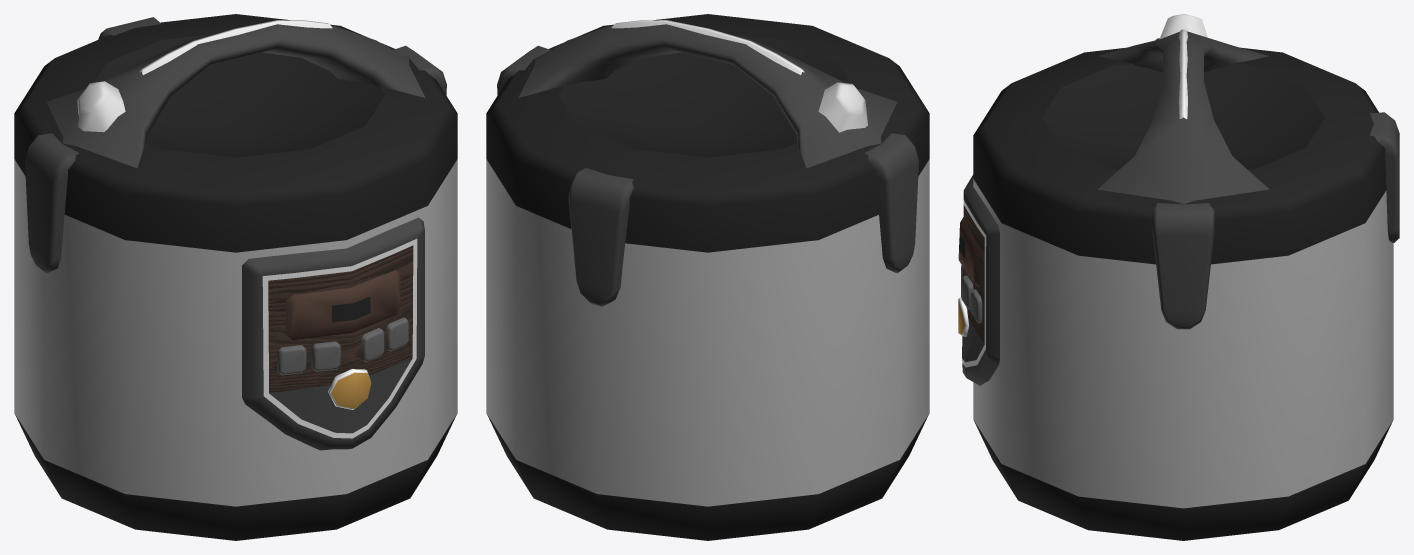
The model's file is electronics_005.fbx.
3 renders of one model, left to right at view 1: azimuth 30°, elevation 25°; view 2: azimuth 150°, elevation 25°; view 3: azimuth 270°, elevation 25°, orthographic. The views are drawn at different scales.
Visible parts, largest first — view 1: electronics_005; view 2: electronics_005; view 3: electronics_005.
Boxes of the visible parts, left/top/right/bottom form: electronics_005: left=14, top=14, right=457, bottom=540; electronics_005: left=486, top=14, right=929, bottom=540; electronics_005: left=958, top=14, right=1399, bottom=540.
Size of the model in its own units: 57.35 by 58.56 by 61.67.
